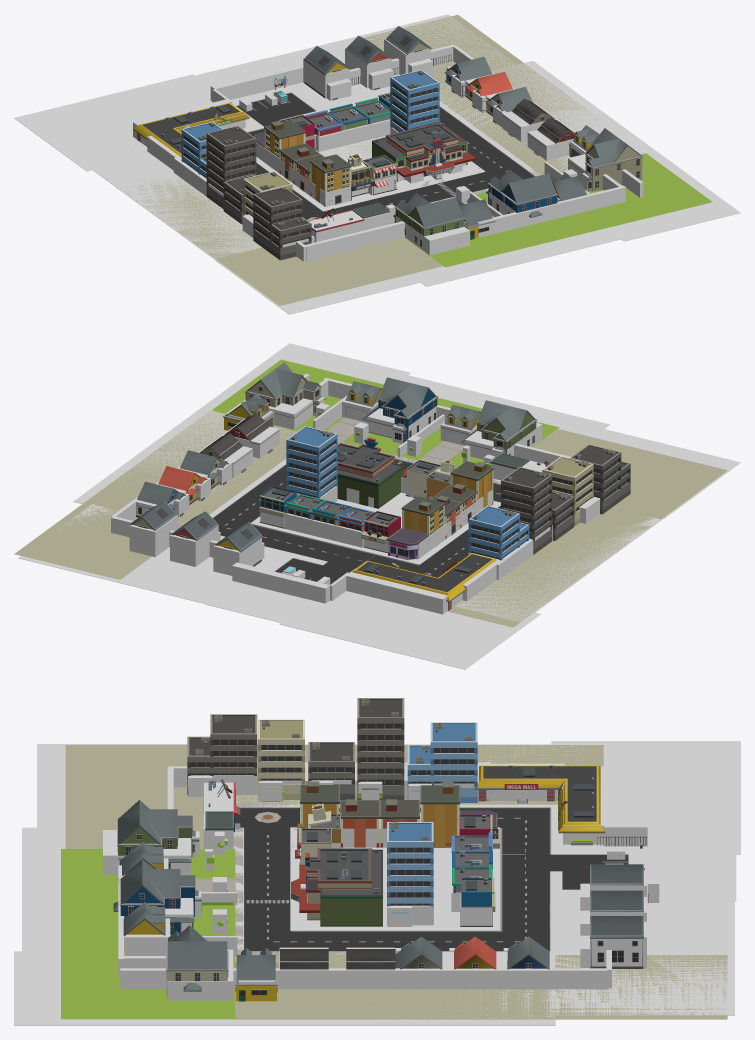
The model's file is townGGG.glb.
3 views of the same model, one above another, from view 1: azimuth 30°, elevation 25°; view 2: azimuth 150°, elevation 25°; view 3: azimuth 270°, elevation 25° (orthographic). The views are drawn at different scales.
Visible parts, largest first — view 1: proxy_(7), proxy_(10), gravel_square_mesh_(7), gravel_square_mesh_(1), proxy_(9), grass_square_mesh, gravel_square_mesh_(2), proxy_(6), Building_Cinema, proxy_(1), Building_OfficeStepped_Grey, Building_OfficeLarge_Grey (+48 smaller); view 2: gravel_square_mesh_(7), proxy_(10), gravel_square_mesh_(2), proxy_(7), gravel_square_mesh_(1), proxy_(6), proxy_(9), Building_Cinema, grass_square_mesh, Building_OfficeLarge_Blue, Building_OfficeLarge_Grey, proxy_(1) (+50 smaller); view 3: proxy_(6), gravel_square_mesh_(7), proxy_(10), grass_square_mesh, gravel_square_mesh_(1), proxy_(7), proxy_(21), Building_Cinema, proxy_(1), Building_Mall, Building_OfficeLarge_Grey, proxy_(3) (+57 smaller).
Boxes of the visible parts, x1=… form: proxy_(7): x1=439, y1=61, x2=740, y2=241; proxy_(10): x1=14, y1=74, x2=263, y2=171; gravel_square_mesh_(7): x1=363, y1=14, x2=605, y2=174; gravel_square_mesh_(1): x1=216, y1=237, x2=442, y2=305; proxy_(9): x1=79, y1=144, x2=261, y2=262; grass_square_mesh: x1=390, y1=153, x2=712, y2=267; gravel_square_mesh_(2): x1=118, y1=139, x2=261, y2=258; proxy_(6): x1=251, y1=14, x2=517, y2=112; Building_Cinema: x1=372, y1=122, x2=475, y2=181; proxy_(1): x1=410, y1=188, x2=636, y2=286; Building_OfficeStepped_Grey: x1=253, y1=186, x2=311, y2=260; Building_OfficeLarge_Grey: x1=206, y1=125, x2=256, y2=208; gravel_square_mesh_(7): x1=14, y1=410, x2=297, y2=579; proxy_(10): x1=279, y1=568, x2=540, y2=669; gravel_square_mesh_(2): x1=447, y1=507, x2=654, y2=627; proxy_(7): x1=73, y1=343, x2=410, y2=517; gravel_square_mesh_(1): x1=533, y1=429, x2=727, y2=519; proxy_(6): x1=18, y1=504, x2=292, y2=603; proxy_(9): x1=455, y1=516, x2=665, y2=622; Building_Cinema: x1=337, y1=437, x2=406, y2=508; grass_square_mesh: x1=212, y1=359, x2=559, y2=468; Building_OfficeLarge_Blue: x1=286, y1=426, x2=337, y2=498; Building_OfficeLarge_Grey: x1=501, y1=467, x2=552, y2=554; proxy_(1): x1=338, y1=371, x2=609, y2=484; proxy_(6): x1=550, y1=889, x2=734, y2=1015; gravel_square_mesh_(7): x1=235, y1=955, x2=727, y2=1019; proxy_(10): x1=551, y1=741, x2=740, y2=854; grass_square_mesh: x1=61, y1=849, x2=235, y2=1019; gravel_square_mesh_(1): x1=65, y1=745, x2=203, y2=848; proxy_(7): x1=14, y1=951, x2=555, y2=1025; proxy_(21): x1=120, y1=968, x2=560, y2=989; Building_Cinema: x1=291, y1=848, x2=382, y2=926; proxy_(1): x1=22, y1=827, x2=243, y2=961; Building_Mall: x1=474, y1=765, x2=605, y2=845; Building_OfficeLarge_Grey: x1=357, y1=698, x2=404, y2=799; proxy_(3): x1=290, y1=827, x2=499, y2=930.
Size of the model in its own units: 196 by 37.42 by 211.
Materials: 298 (224 with a texture image).
